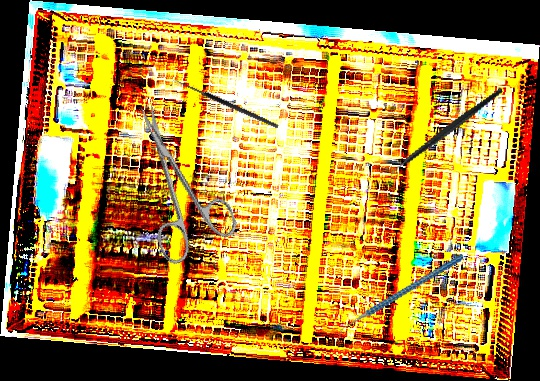Chopper: (372, 86, 519, 185), (325, 254, 475, 342)
Hook Surgical: (169, 77, 280, 134)
Iris Scissors: (111, 90, 243, 268)
